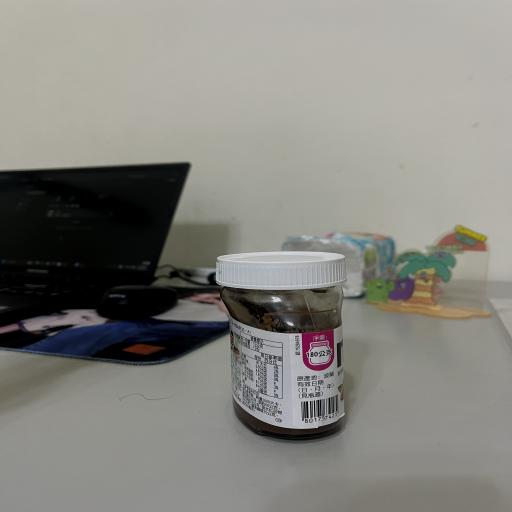chocolate_jar: (198, 242, 367, 456)
